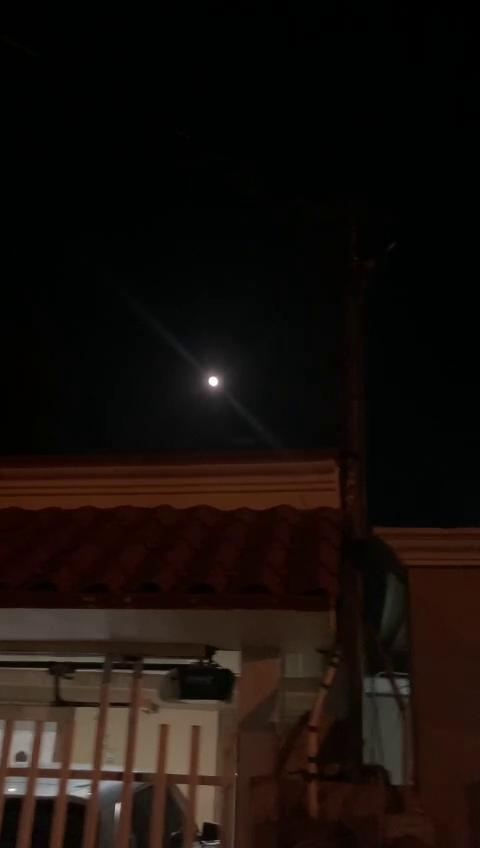moon: (201, 369, 226, 391)
